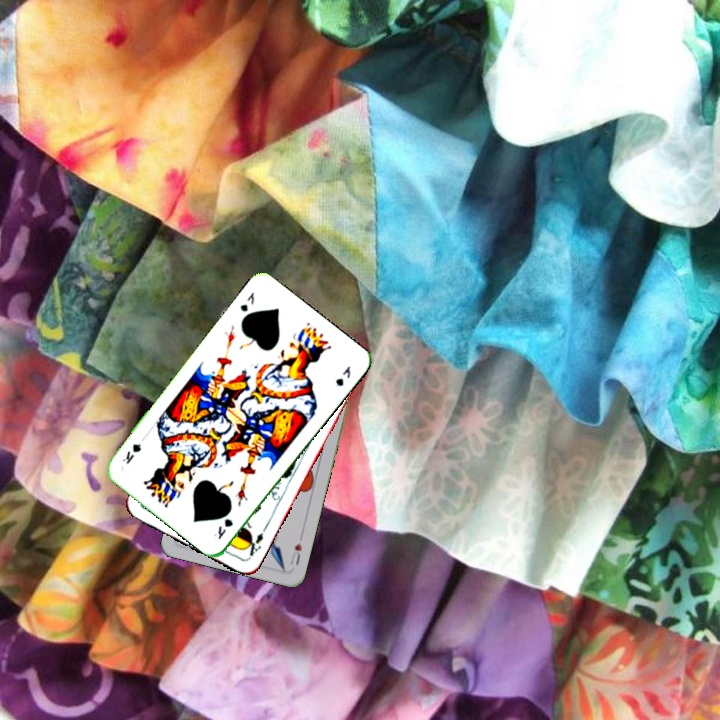EA: (241, 529, 266, 561)
GK: (214, 514, 236, 542), (236, 288, 257, 314)
HU: (286, 531, 305, 568)
